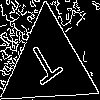T: (23, 39, 68, 95)
